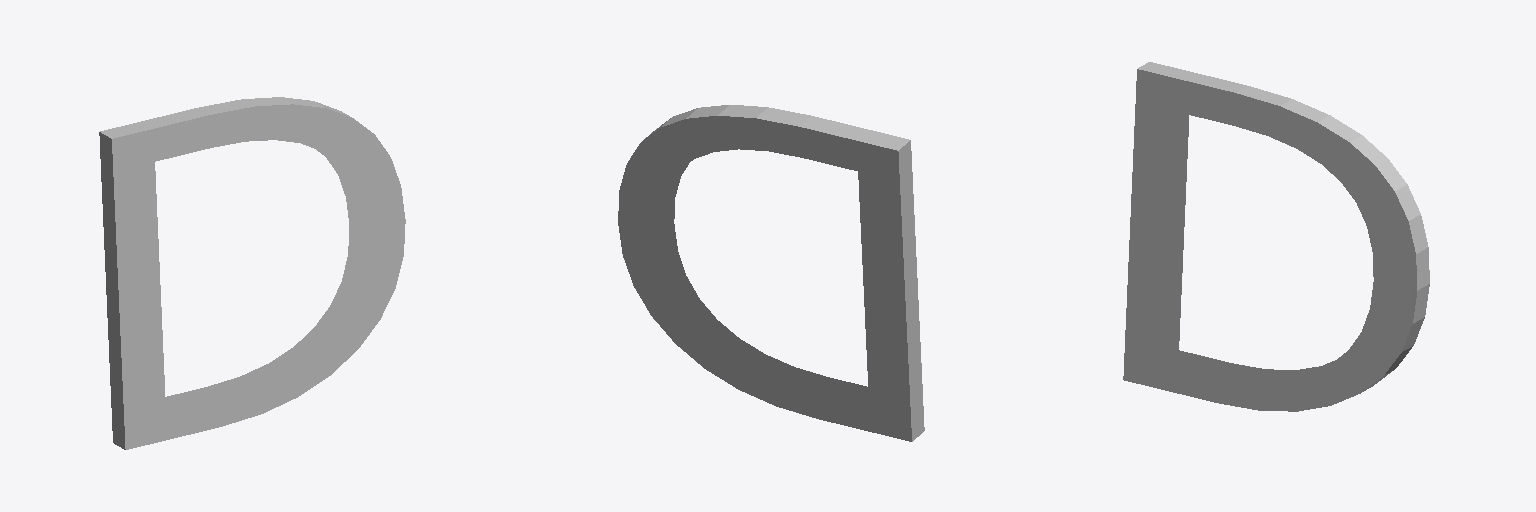
The model's file is original-263.obj.
The picture shows the model from 3 angles: view 1: azimuth 30°, elevation 25°; view 2: azimuth 150°, elevation 25°; view 3: azimuth 330°, elevation 25°; orthographic projection.
Visible parts, largest first — view 1: #ID1511; view 2: #ID1511; view 3: #ID1511.
Part boxes in pixels (bbox=[...]): #ID1511: bbox=[99, 97, 405, 449]; #ID1511: bbox=[618, 105, 924, 441]; #ID1511: bbox=[1123, 62, 1429, 411].
Size of the model in its own units: 0.0103 by 0.0104 by 0.0016.